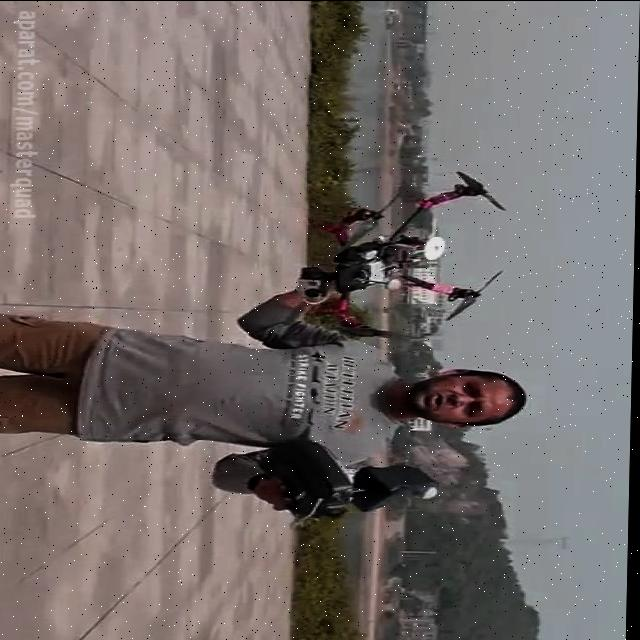drone: (297, 167, 513, 339)
